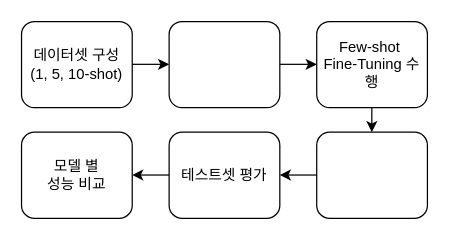
This 449x240 diagram has some shape labels left out. The shapes that lost their labels are listed below. From the top down, each one's centre as x and y in pixels, then its label:
At point 224,64: "모델 선택 및 초기화".
At point 371,174: "검증셋 기반 Early Stopping".
